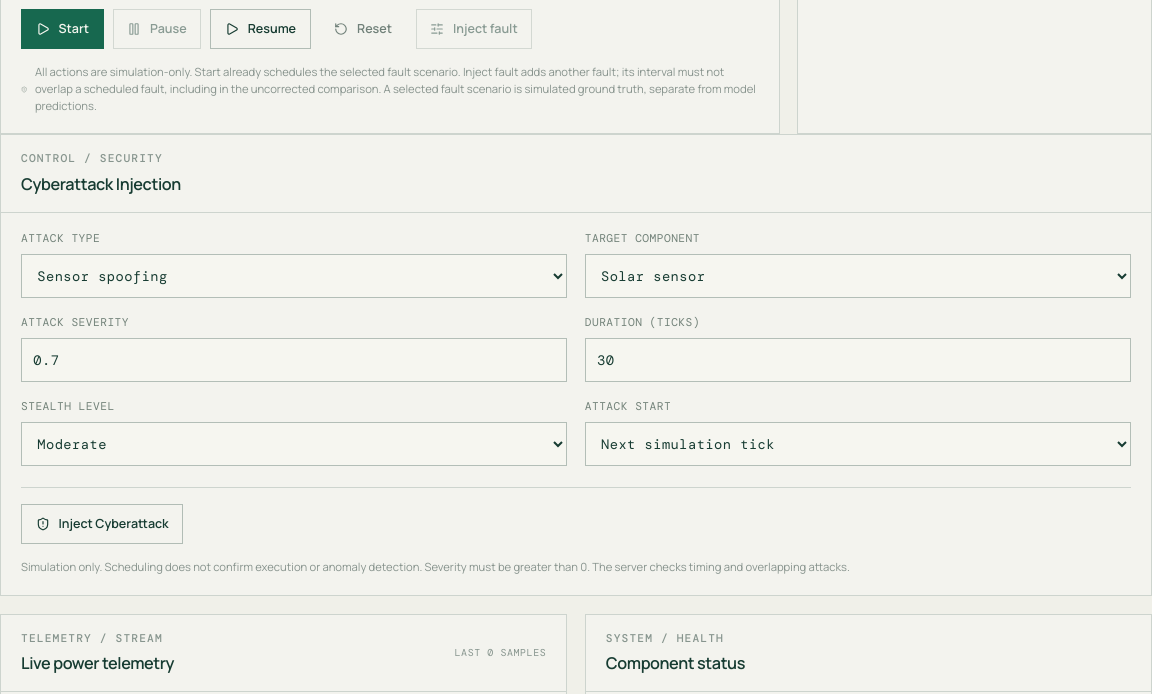
Scenario: Live Simulation cyberattack controls › rejects invalid Attack severity: 0 before a network request
(page scrolled)
Replace the text in the number field labelled "ATTACK SEVERITY" with "0": (294, 360) [21,338,567,382]
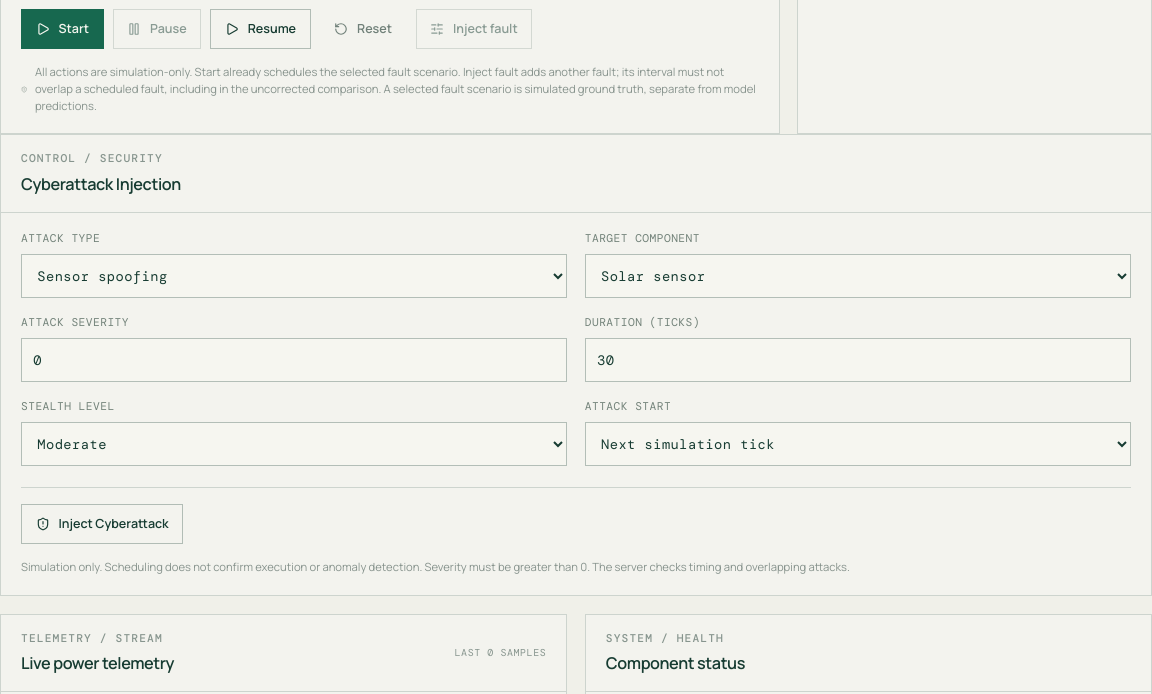
Click the button "Inject Cyberattack": (102, 524) [21,504,183,544]
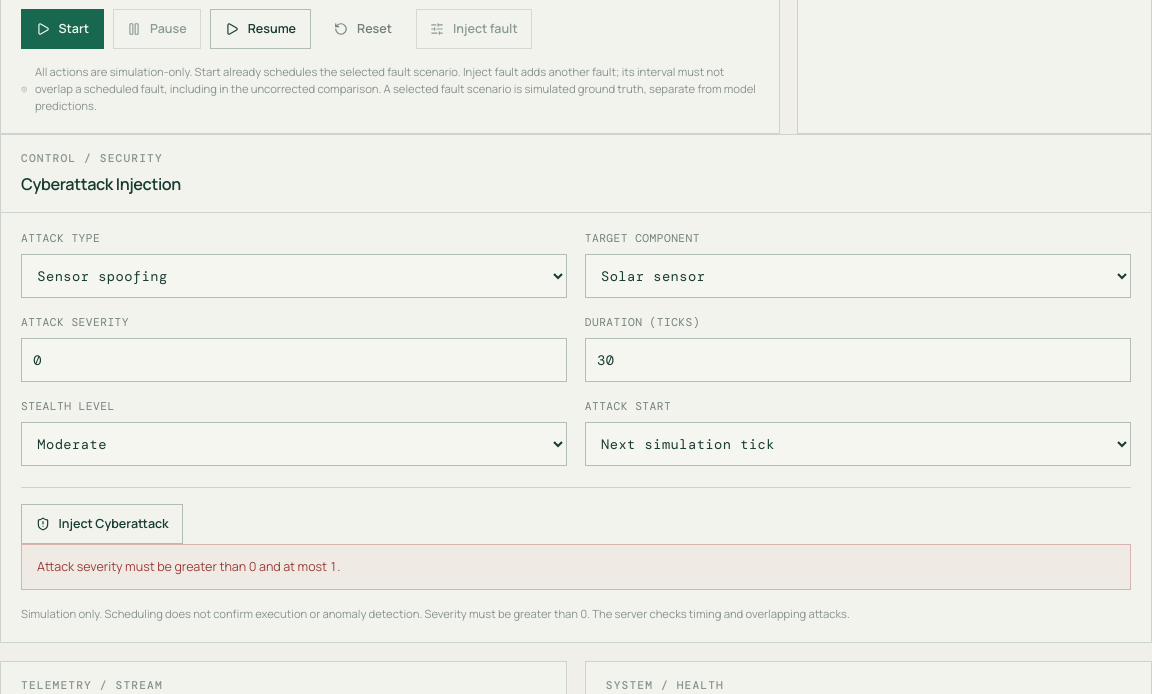
Expected: the message "Attack severity must be greater than 0 and at most 1." is shown, [21,544,1131,590]
